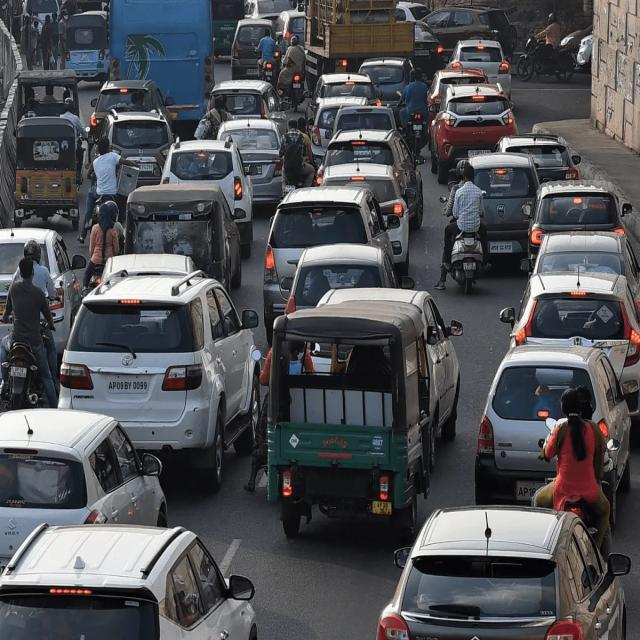plate: (104, 375, 150, 397), (370, 498, 393, 519), (489, 239, 515, 255), (9, 362, 28, 379), (467, 148, 493, 158), (463, 258, 478, 271), (414, 48, 430, 57), (284, 184, 295, 193), (412, 123, 422, 131), (292, 82, 302, 89), (265, 70, 273, 76)
